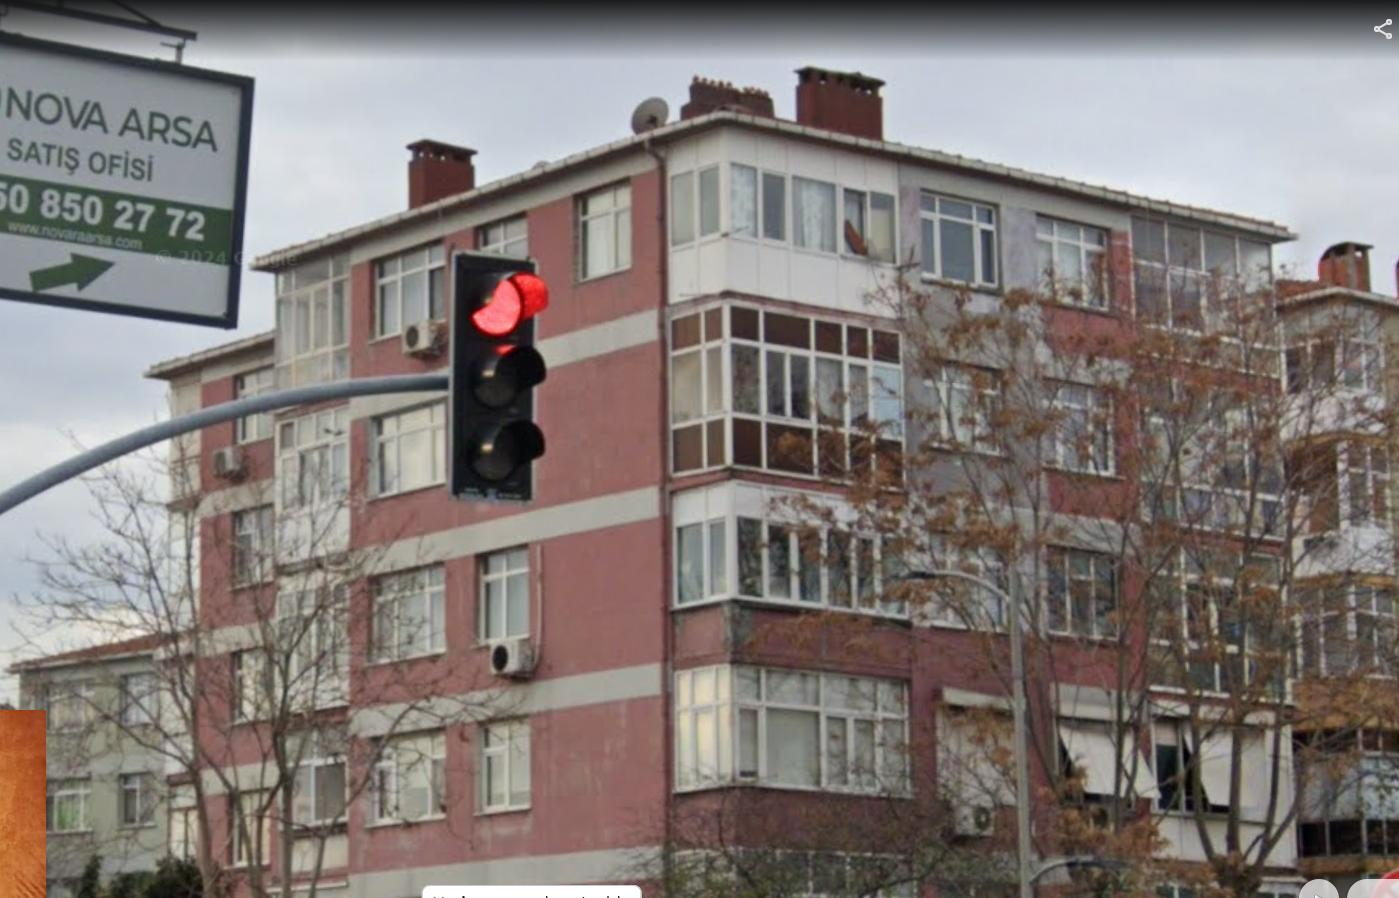redlight: (453, 255, 545, 498)
